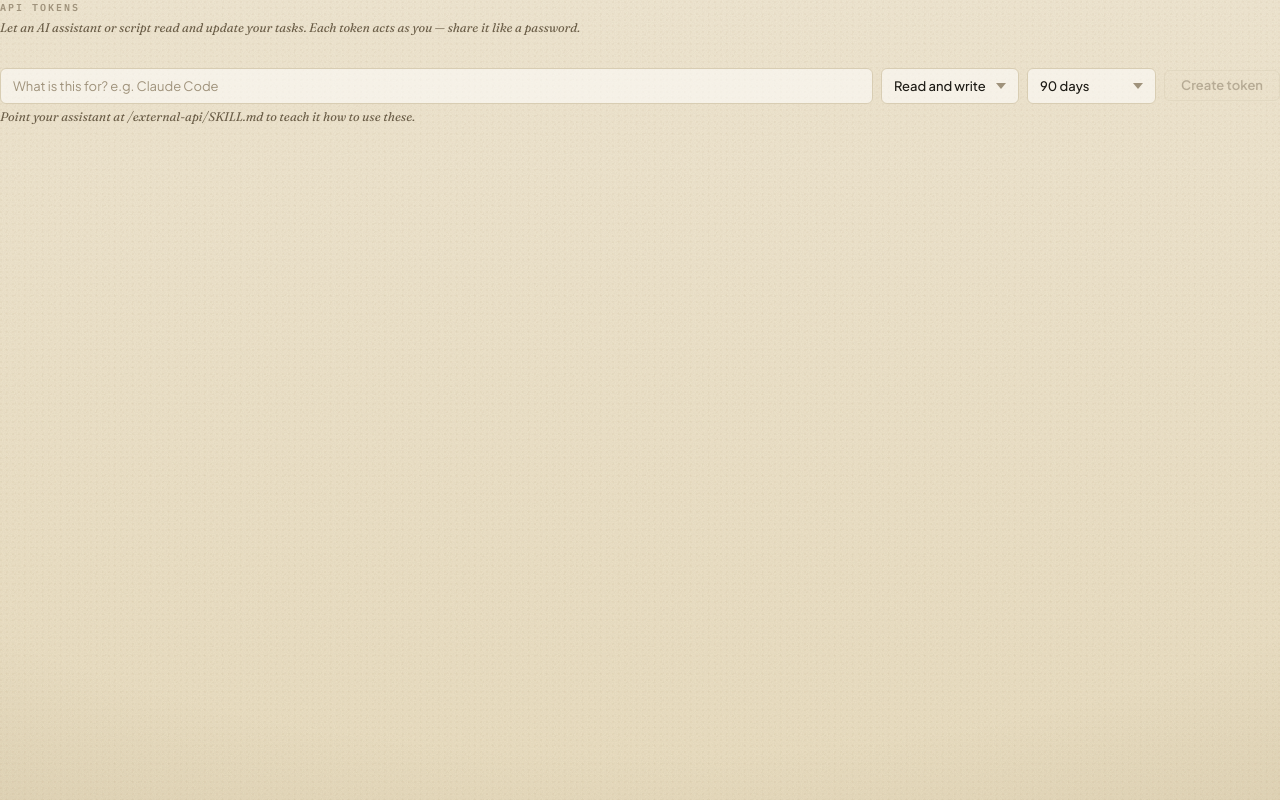
ApiTokens › does not count expired tokens toward the limit
Type "New" into the field with placeholder "What is this for? e.g. Claude Code" at point(437, 86), box [0,68,873,104]
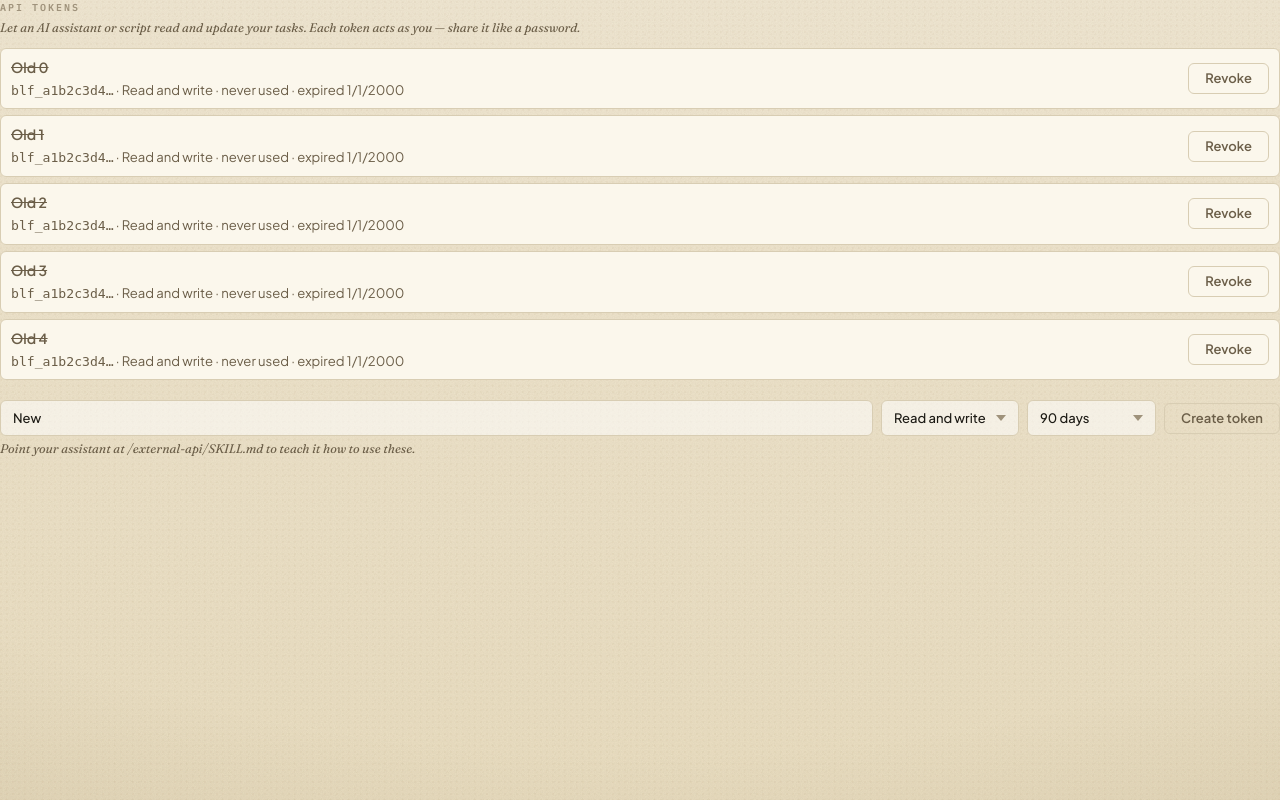
expect the button "Create token" is enabled: met, box [1164,403,1279,434]
